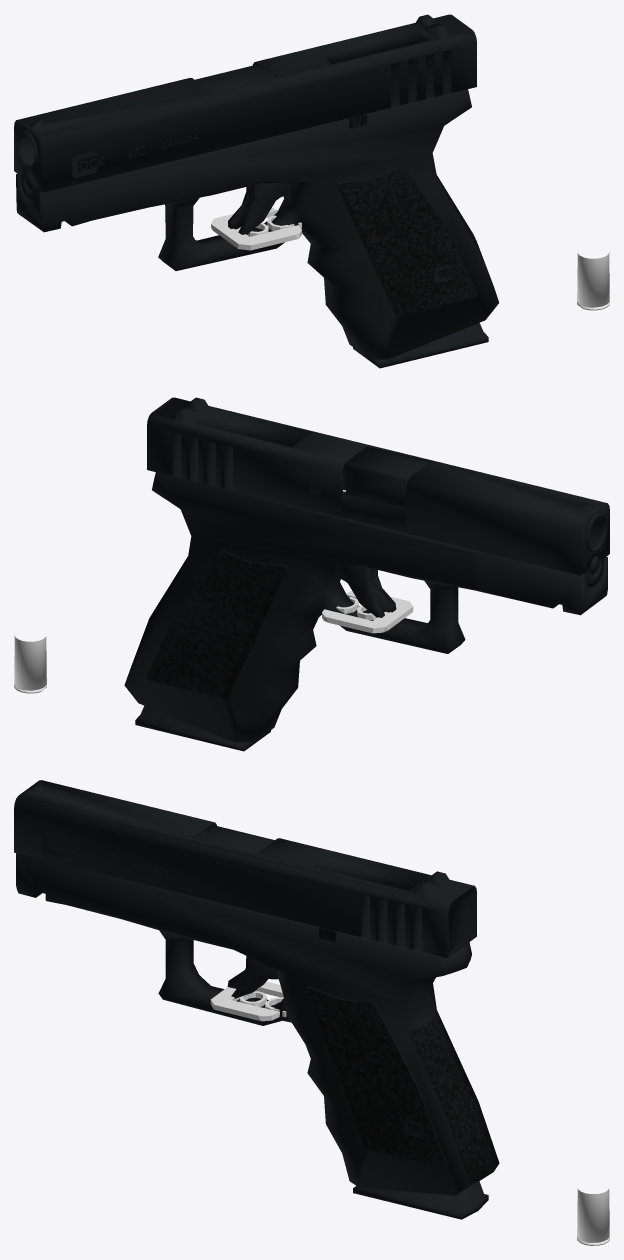
The model's file is Glock17.glb.
The picture shows the model from 3 angles, top to bottom: view 1: azimuth 30°, elevation 25°; view 2: azimuth 150°, elevation 25°; view 3: azimuth 330°, elevation 25°; orthographic projection.
Parts seen in each view (by area): view 1: Handle, Slide, Barrel, Cock logo, Casing, Trigger, Magazine; view 2: Handle, Slide, Barrel, Cock logo, Casing, Trigger, Magazine; view 3: Handle, Slide, Magazine, Cock logo, Casing, Barrel, Trigger.
Boxes of the visible parts, bbox=[...] form: Handle: bbox=[16, 89, 499, 359]; Slide: bbox=[14, 14, 476, 204]; Barrel: bbox=[16, 64, 274, 169]; Cock logo: bbox=[211, 208, 301, 250]; Casing: bbox=[577, 252, 609, 310]; Trigger: bbox=[228, 182, 288, 234]; Magazine: bbox=[353, 323, 488, 368]; Handle: bbox=[124, 472, 607, 742]; Slide: bbox=[147, 397, 609, 587]; Barrel: bbox=[345, 447, 607, 552]; Cock logo: bbox=[322, 591, 413, 633]; Casing: bbox=[14, 635, 46, 693]; Trigger: bbox=[335, 566, 396, 617]; Magazine: bbox=[135, 706, 270, 751]; Handle: bbox=[16, 853, 499, 1195]; Slide: bbox=[14, 780, 476, 958]; Magazine: bbox=[353, 1181, 488, 1219]; Cock logo: bbox=[210, 981, 286, 1021]; Casing: bbox=[577, 1188, 609, 1245]; Barrel: bbox=[195, 825, 274, 853]; Trigger: bbox=[227, 956, 278, 998].
Bounding box in the file's own units: 18.07 × 9.52 × 2.
Materials: 7 (7 with a texture image).
